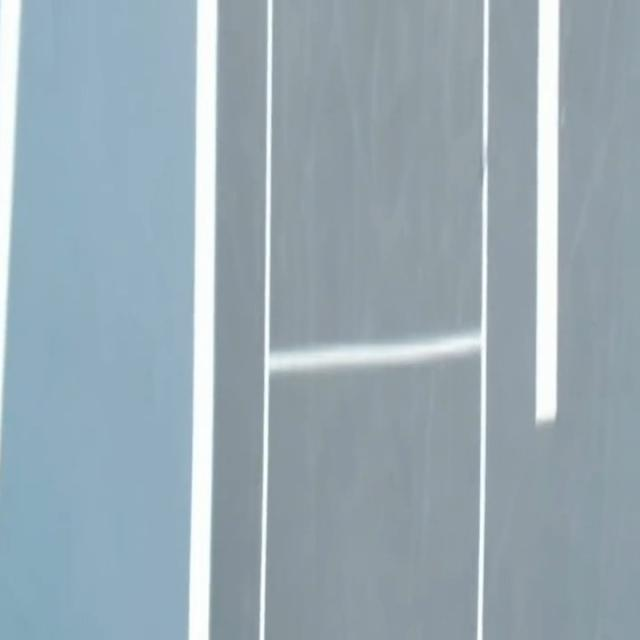center: (535, 0, 559, 423)
left: (188, 0, 217, 639)
